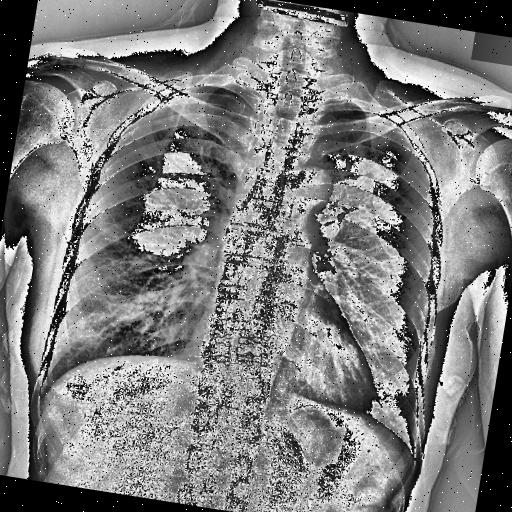0- Aortic enlargement: (286, 163, 335, 221), (288, 163, 336, 210)
13- Pulmonary fibrosis: (43, 240, 212, 412)
5- ILD: (43, 240, 212, 412), (76, 259, 166, 359)
7- Lung Opacity: (43, 240, 212, 412)
